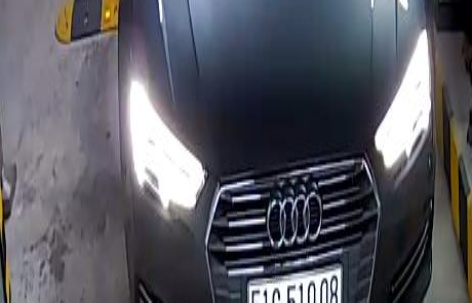plate: (244, 262, 339, 302)
